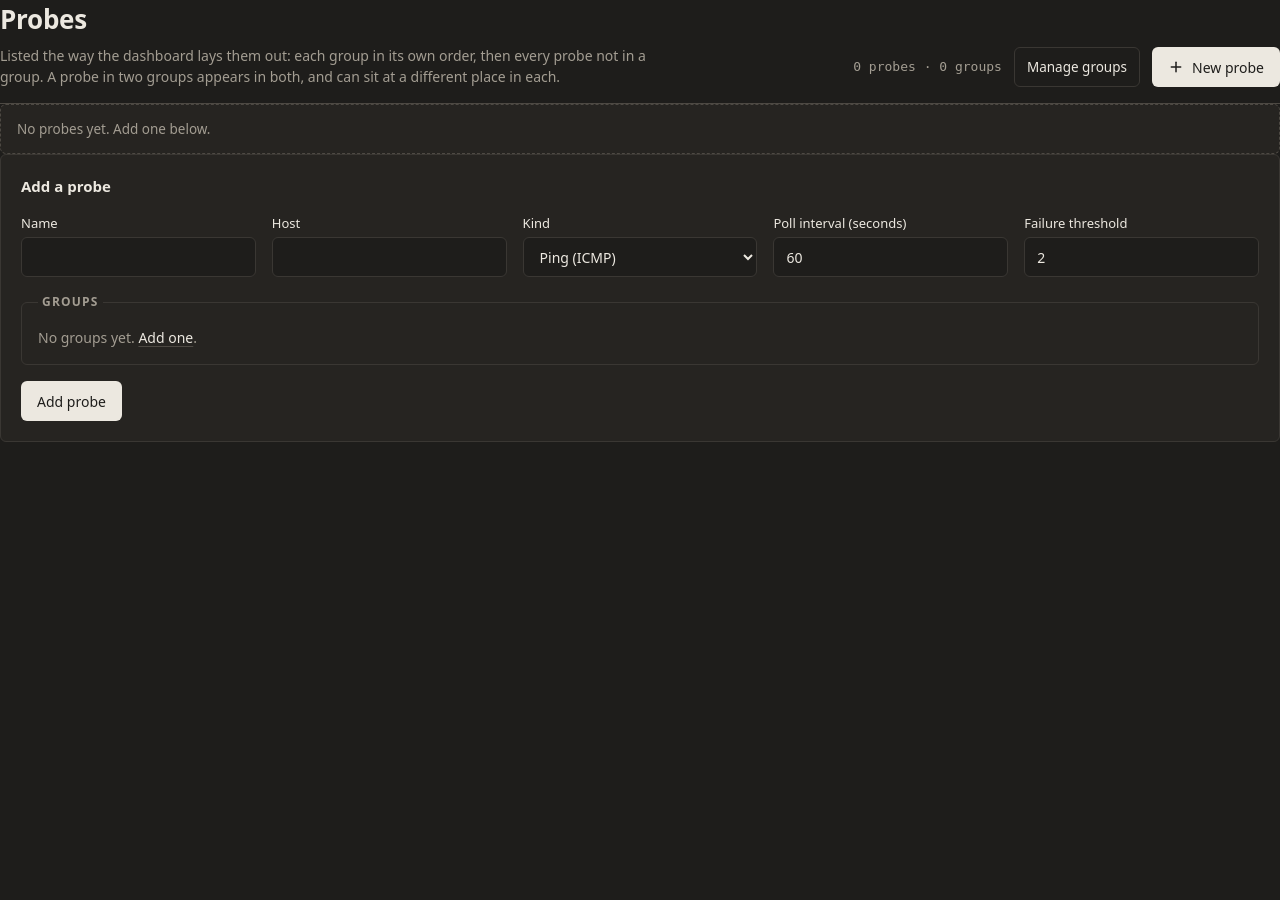
Test: AdminProbesPage › selecting HTTP reveals the HTTP fieldset; selecting Ping again hides it
The image size is (1280, 900).
expect the field labelled "Name" is shown: met, box [21,237,256,277]
expect the element "HTTP" is not shown: met
Select "HTTP/HTTPS" in the dropdown labelled "Kind" at {"x": 640, "y": 257}, box [523,237,757,277]
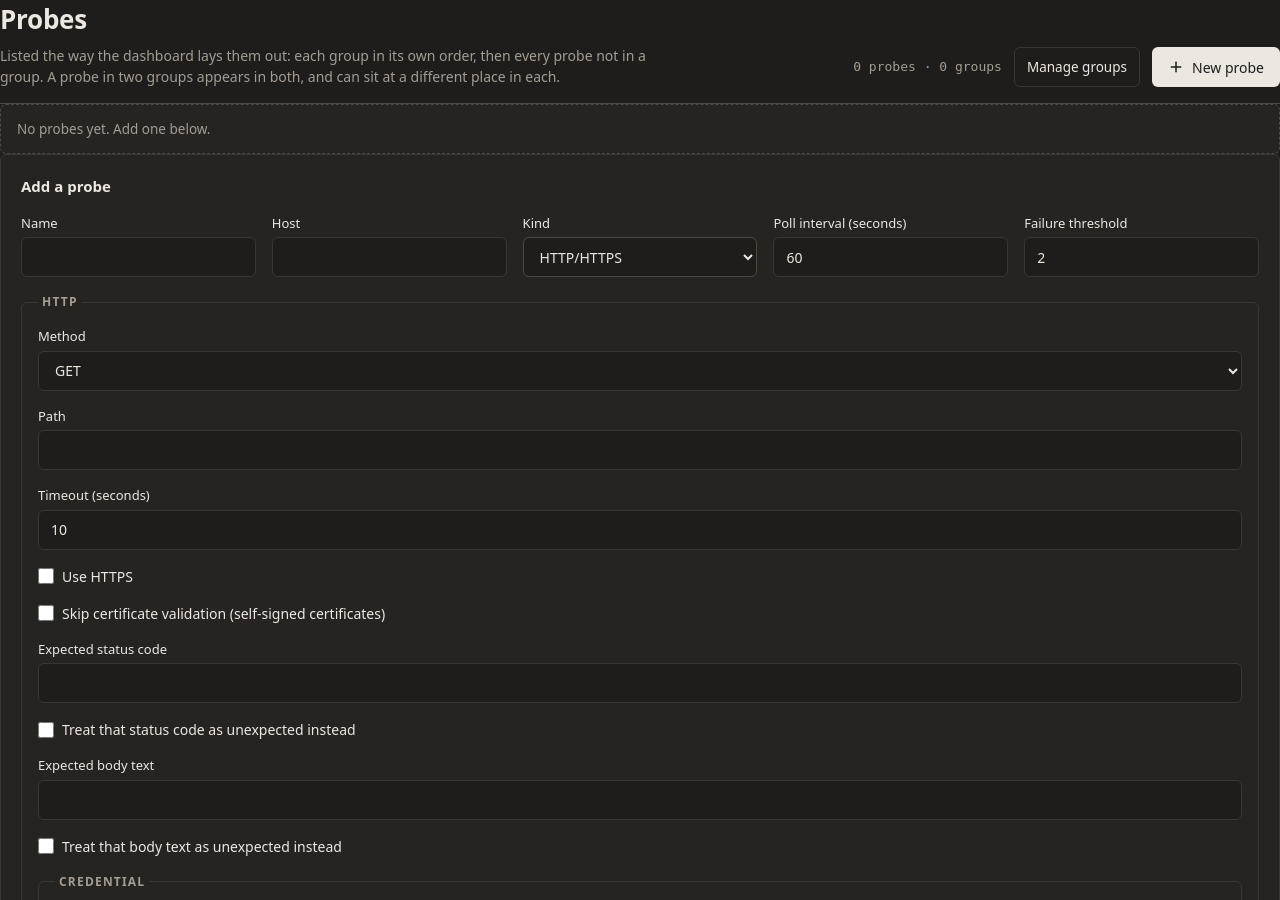
Select "Ping (ICMP)" in the dropdown labelled "Kind" at {"x": 640, "y": 257}, box [523,237,757,277]
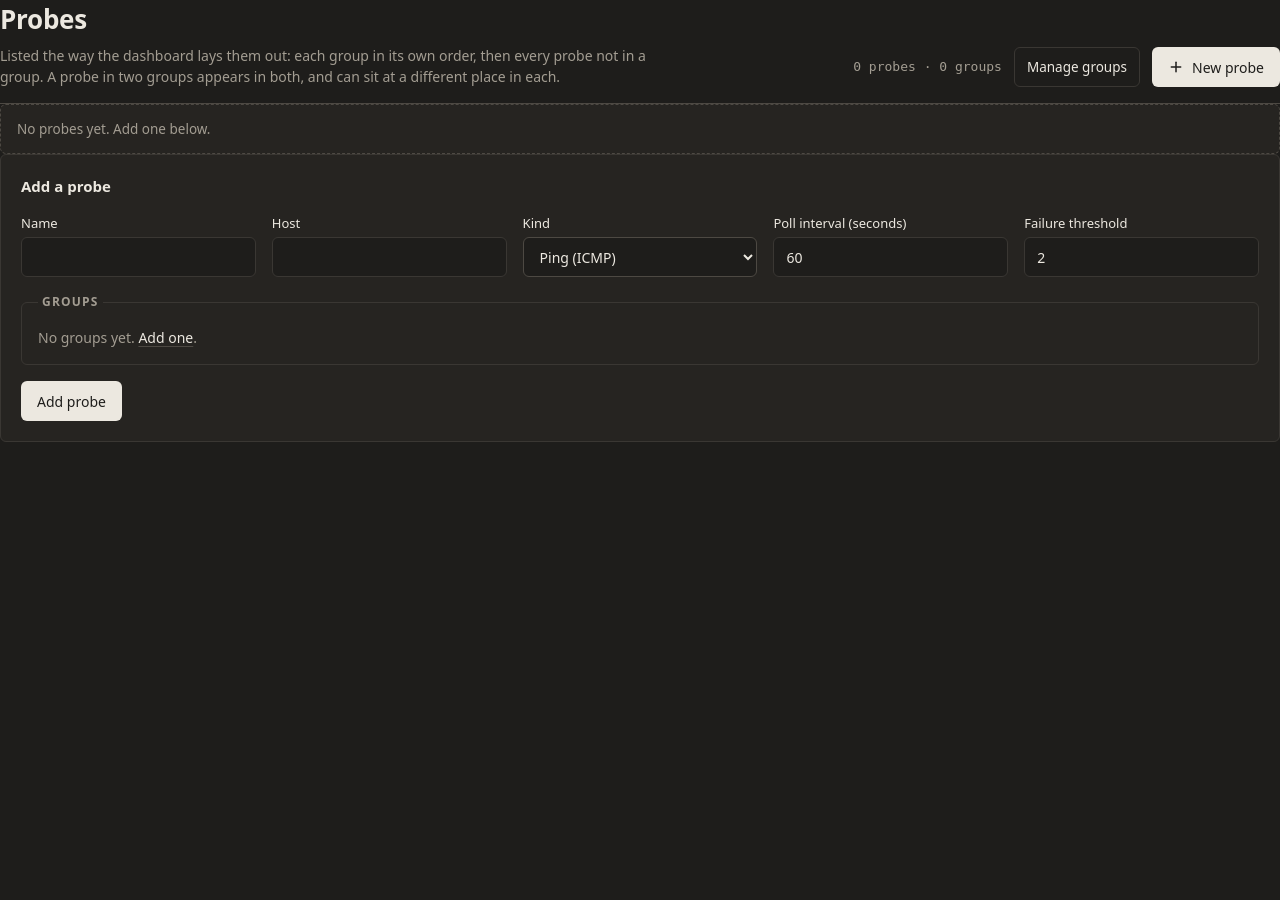
expect the text "HTTP" is gone: met
